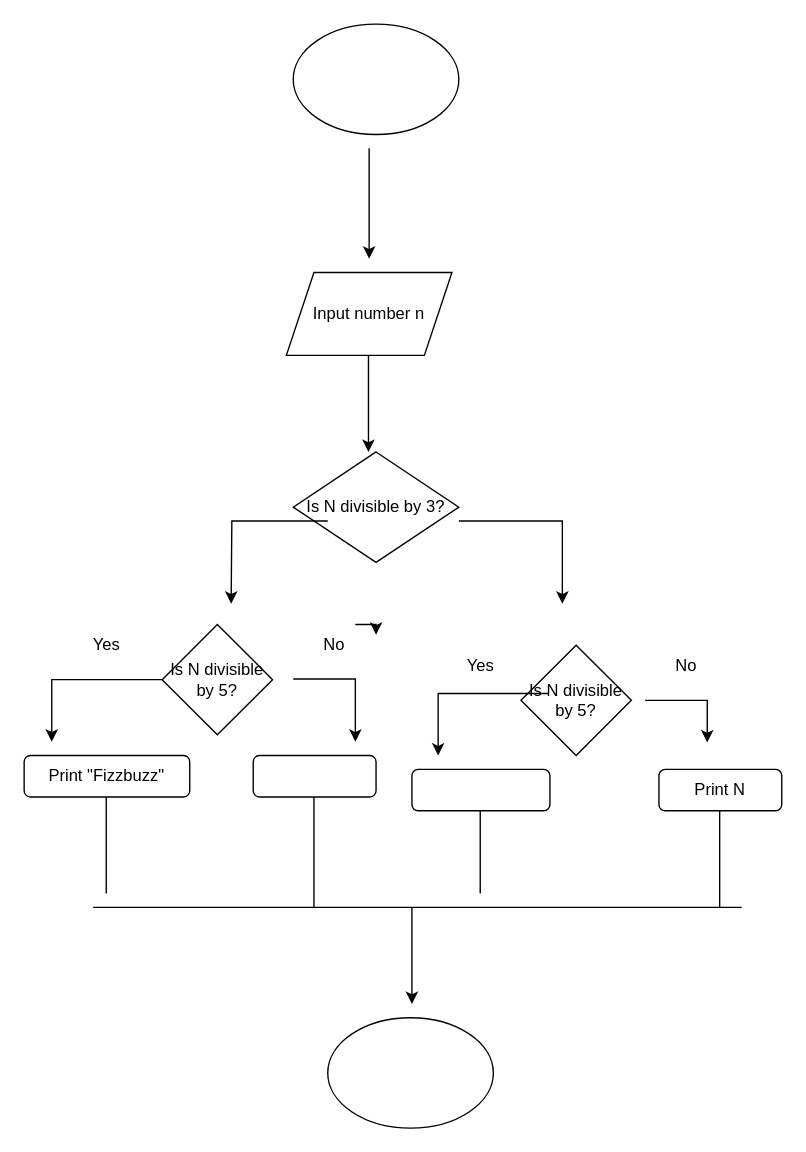
This 806x1152 diagram has some shape labels left out. The shapes that lost their labels are listed below. From the top down, each one's centre as x and y in pixels, then its label:
point 375,79: Start
point 314,775: Print "Fizz"
point 480,789: Print 'buzz"
